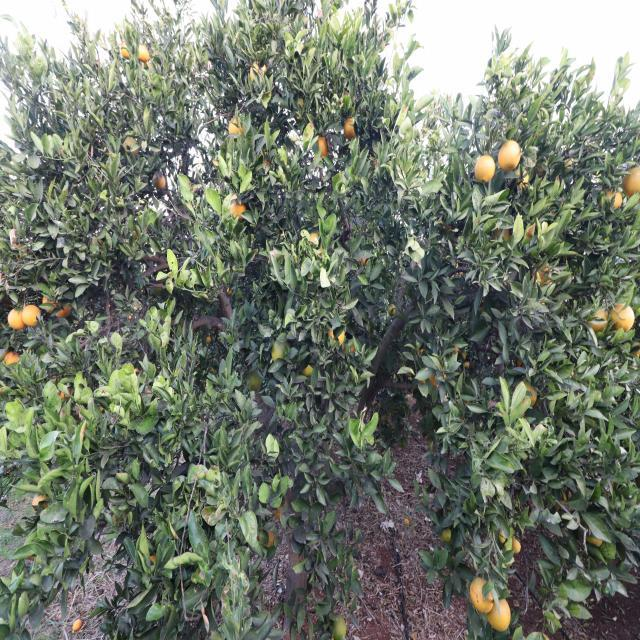Jeruk Belum Matang: (272, 341, 290, 364), (332, 614, 345, 640), (246, 371, 261, 391), (441, 528, 452, 542), (301, 364, 313, 376), (388, 304, 395, 316)
Jeruk Sudah Matang: (471, 578, 496, 614), (611, 302, 636, 332), (487, 600, 510, 630), (498, 140, 520, 170), (474, 155, 496, 181), (600, 190, 622, 212), (624, 167, 640, 196), (227, 194, 245, 218), (590, 309, 608, 333), (22, 304, 40, 328), (8, 308, 24, 330), (229, 115, 243, 137), (329, 328, 345, 346), (56, 386, 72, 402), (344, 118, 356, 138), (41, 296, 58, 310), (137, 44, 150, 61), (4, 352, 19, 366), (153, 172, 166, 188), (56, 303, 71, 316), (317, 137, 327, 154), (343, 342, 356, 354)
